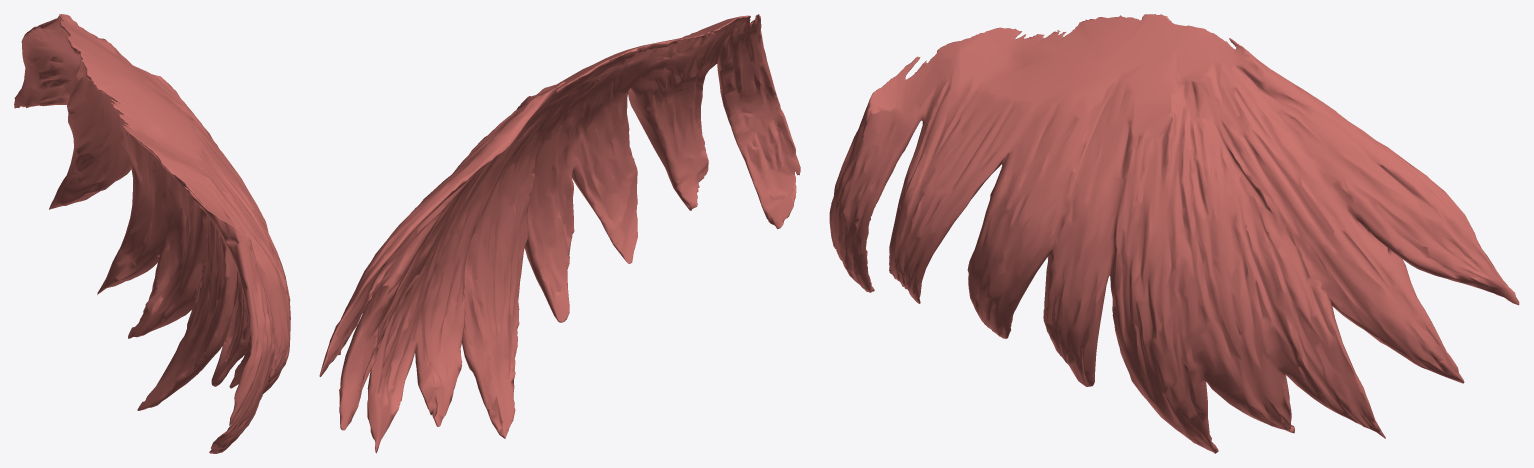
3 views of the same model, side by side, from view 1: azimuth 30°, elevation 25°; view 2: azimuth 150°, elevation 25°; view 3: azimuth 270°, elevation 25° (orthographic). The views are drawn at different scales.
Parts seen in each view (by area): view 1: 左侧前锯肌; view 2: 左侧前锯肌; view 3: 左侧前锯肌.
Part boxes in pixels (x1=…): 左侧前锯肌: x1=14, y1=14, x2=290, y2=453; 左侧前锯肌: x1=319, y1=14, x2=800, y2=453; 左侧前锯肌: x1=829, y1=14, x2=1519, y2=453.
Size of the model in its own units: 0.1275 by 0.2536 by 0.4047.
